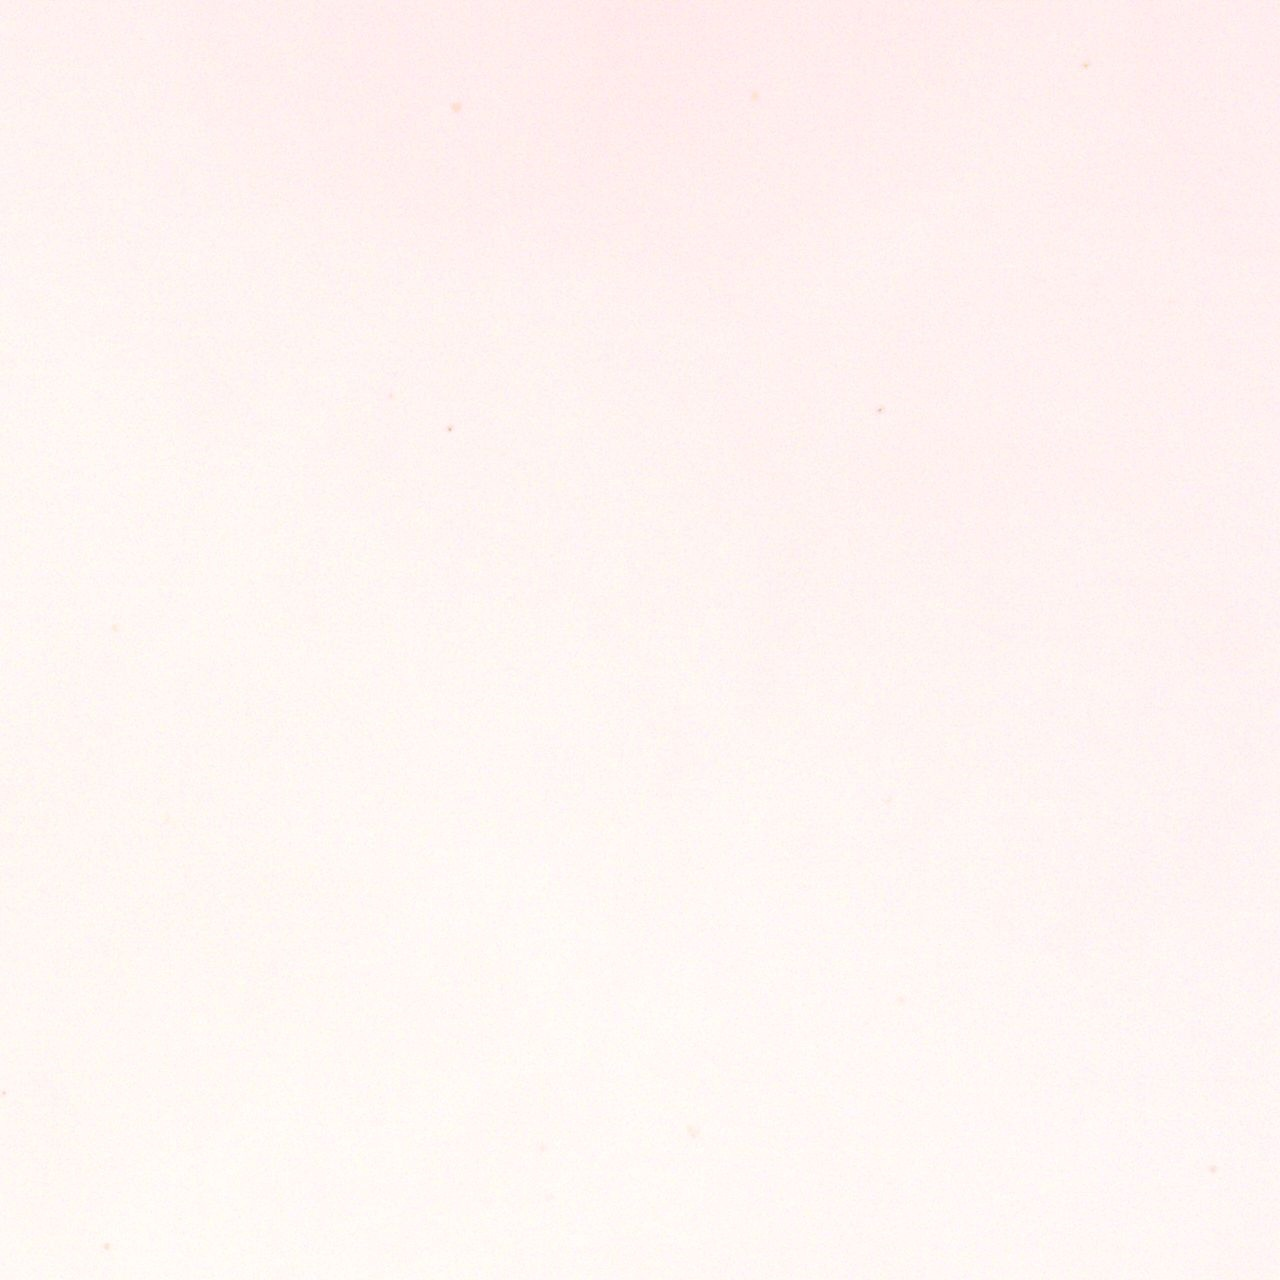dust: (447, 425, 452, 431), (1082, 63, 1089, 68), (877, 407, 883, 411), (1, 1090, 7, 1095)
